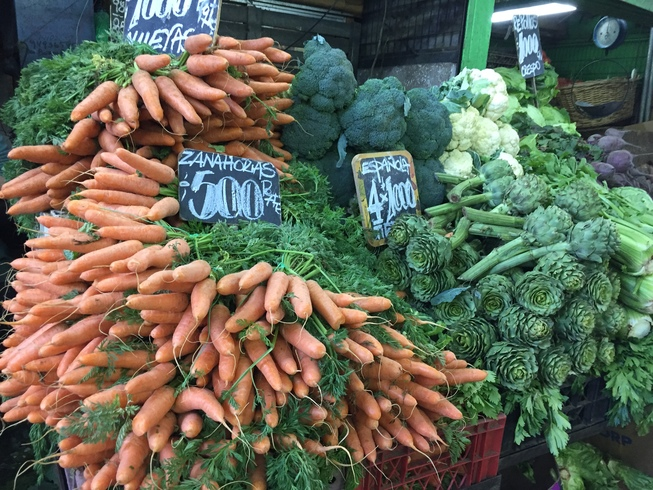precio: (176, 141, 289, 241), (347, 151, 428, 248), (118, 1, 218, 72), (510, 12, 551, 85)
